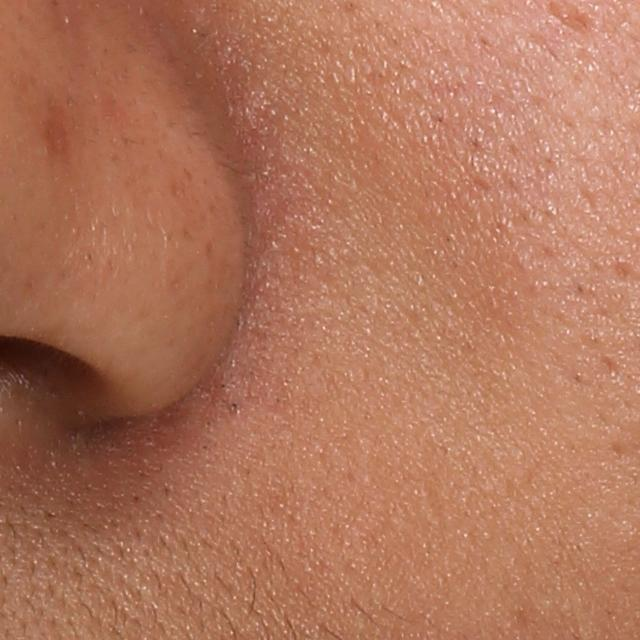atrophic_scar: (474, 28, 569, 147), (611, 262, 635, 288)
